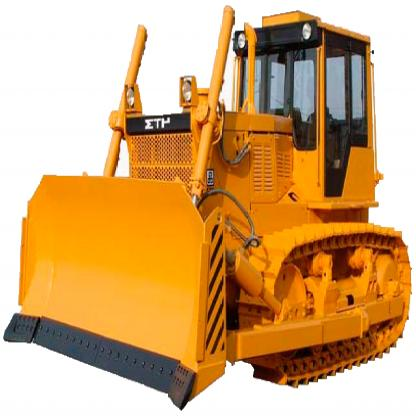bull_dozer/loader/grader: (16, 7, 412, 401)
